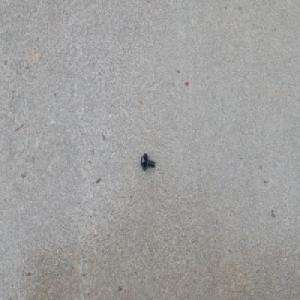BoltWasher: (140, 152, 156, 170)
